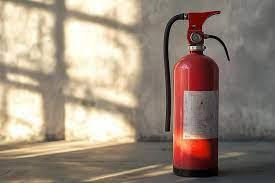floor-kept: (151, 4, 242, 180)
